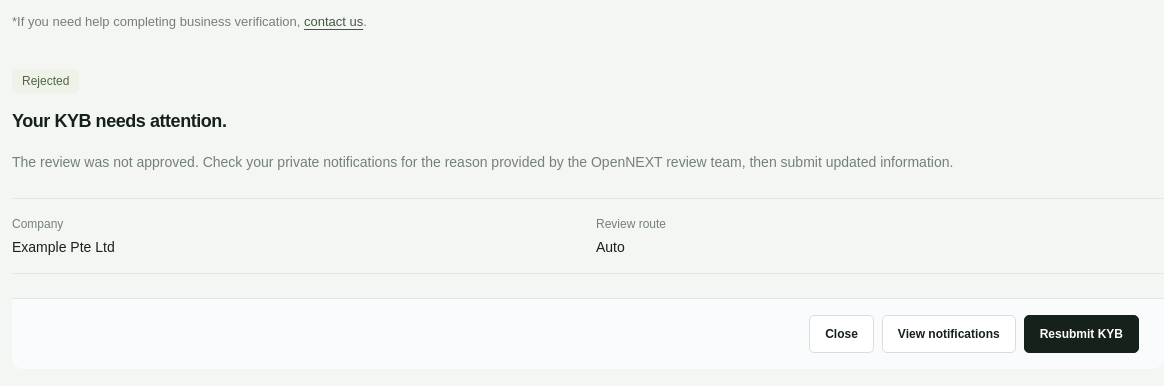
it: Buyer KYB frontend › keeps rejection reasons in private notifications and offers resubmission
Expected: the heading "Your KYB needs attention." is shown, [12, 111, 226, 131]
What coordinates should you click on to do the following:
click the button "Resubmit KYB"
I would click on:
 (1081, 334)
Its box is [1024, 315, 1139, 353].
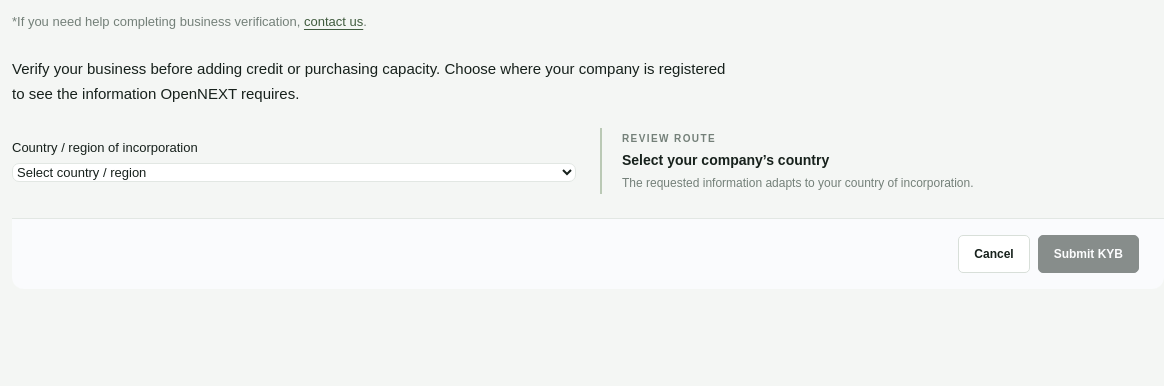
Now the form named "Buyer KYB form" is shown, box [12, 57, 1163, 289]
